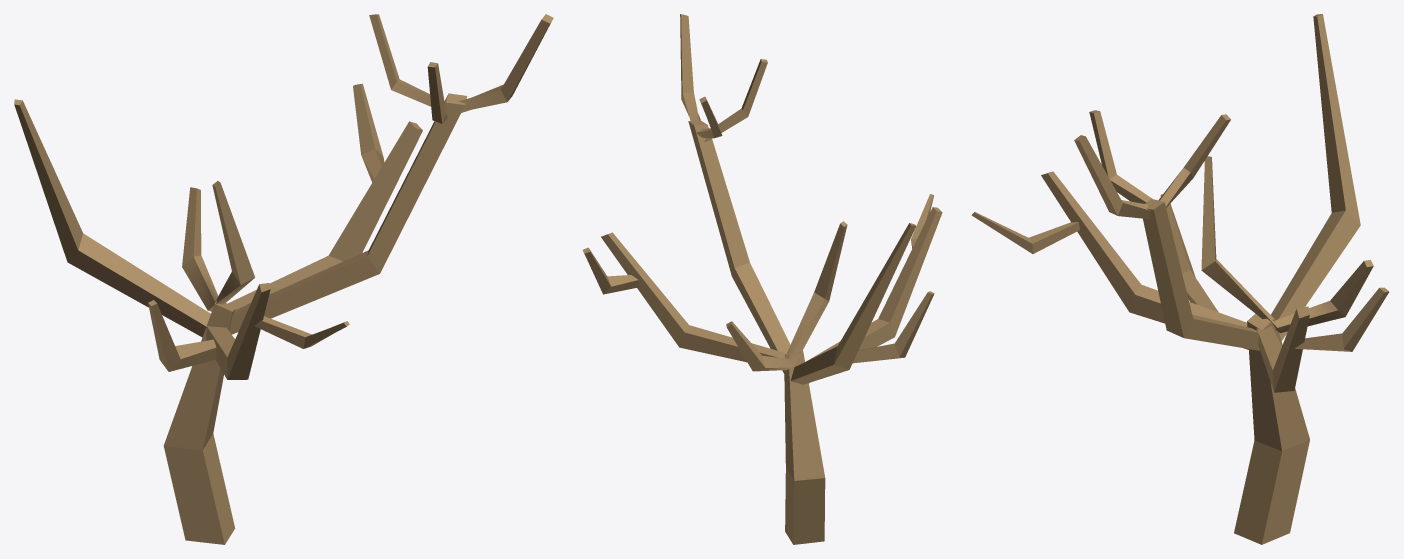
Rendered from Tree1.fbx.
The picture shows the model from 3 angles, left to right: view 1: azimuth 30°, elevation 25°; view 2: azimuth 150°, elevation 25°; view 3: azimuth 270°, elevation 25°; orthographic projection. The views are drawn at different scales.
Visible parts, largest first — view 1: geo_Tree1; view 2: geo_Tree1; view 3: geo_Tree1.
Part boxes in pixels (box(x1,y1,x2,y2)): geo_Tree1: box(14, 14, 553, 544); geo_Tree1: box(582, 14, 942, 544); geo_Tree1: box(971, 14, 1389, 544).
Bounding box in the file's own units: 1.59 × 1.92 × 1.41.
